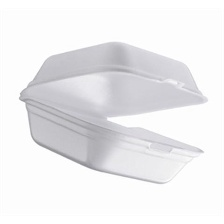foam_box: (14, 36, 215, 191)
